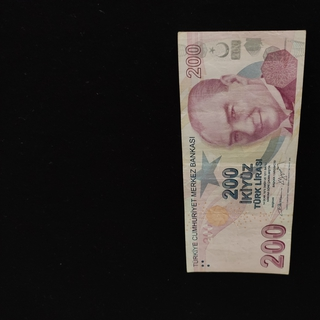200TLFront: (177, 29, 306, 275)
